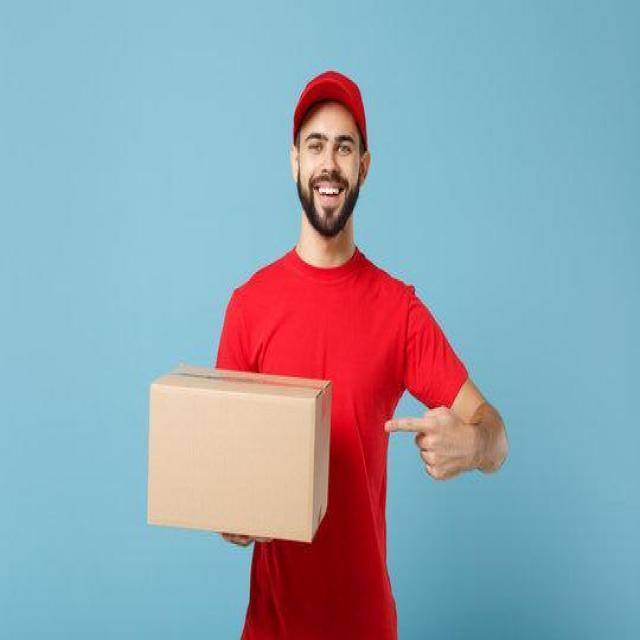box: (143, 361, 337, 553)
